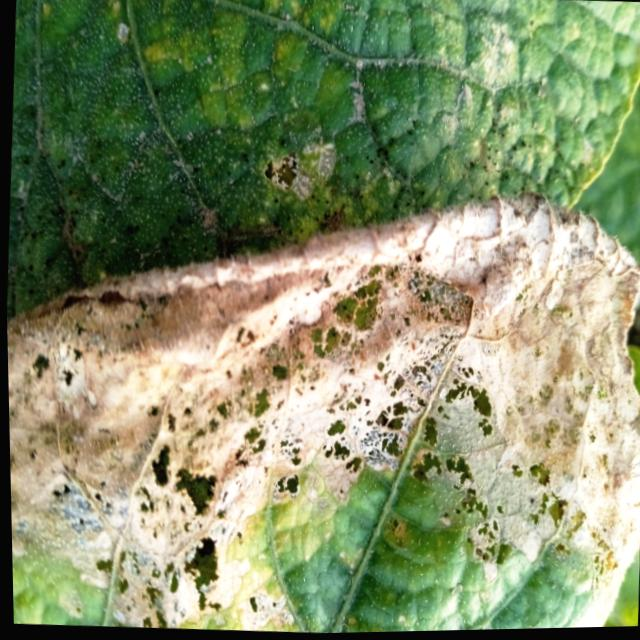Gummy-Stem-Blight: (4, 162, 640, 640)
